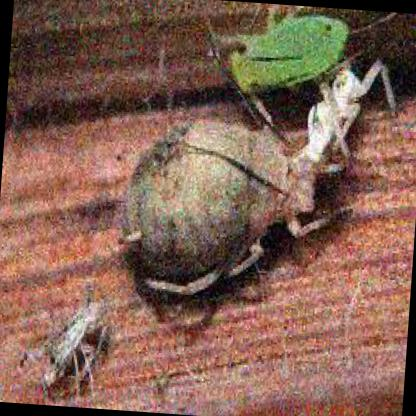schizaphis graminum: (211, 15, 347, 96)
